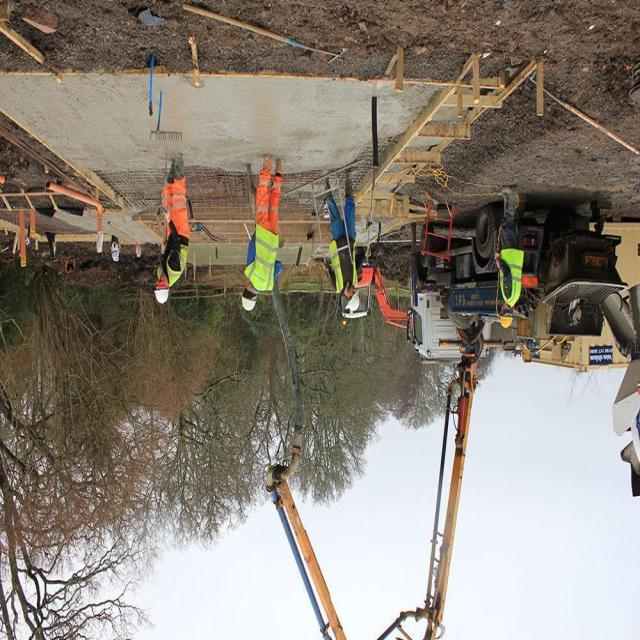helmet: (344, 291, 364, 319), (152, 286, 174, 310), (236, 296, 262, 316), (494, 312, 514, 330)
jacket: (244, 223, 288, 295), (150, 235, 196, 283), (328, 238, 364, 294), (495, 246, 527, 306)
